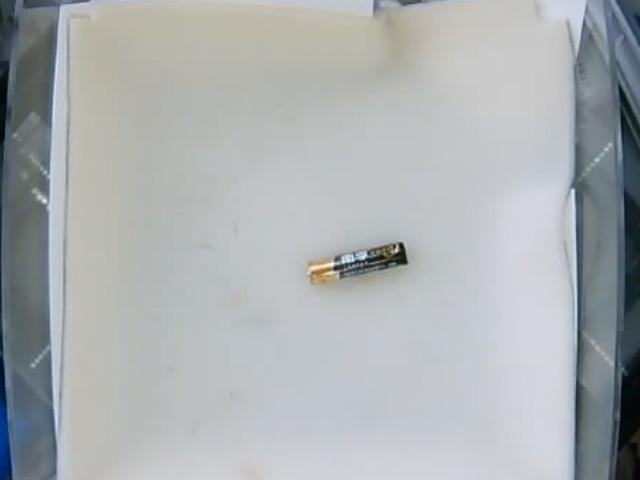Battery: (306, 241, 408, 284)
